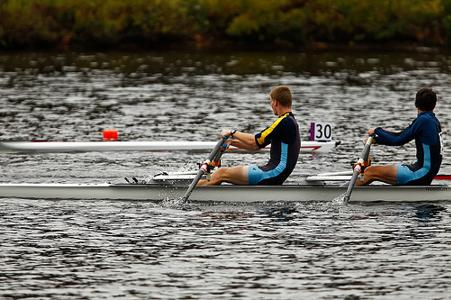person: (194, 86, 302, 188)
